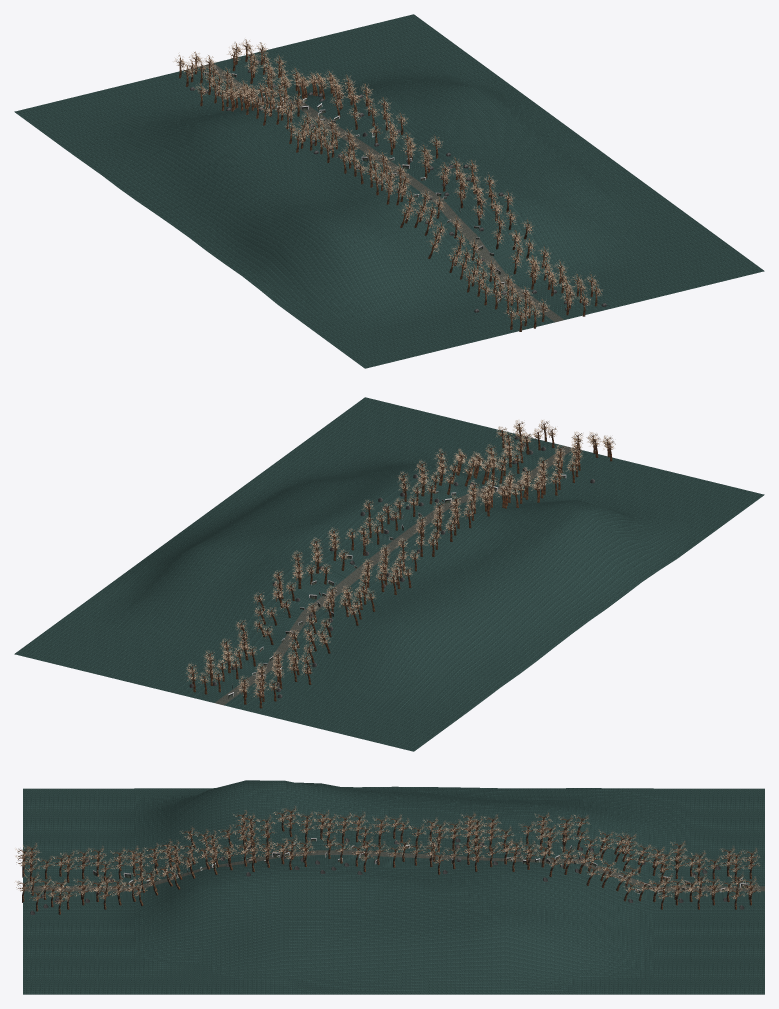
The model's file is The Hill of Silence 1.fbx.
3 renders of one model, top to bottom at view 1: azimuth 30°, elevation 25°; view 2: azimuth 150°, elevation 25°; view 3: azimuth 270°, elevation 25°, orthographic. The views are drawn at different scales.
Parts seen in each view (by area): view 1: Plane; view 2: Plane; view 3: Plane.
Boxes of the visible parts, x1,y1,x2,y2 form: Plane: (14,14,764,368); Plane: (14,397,764,751); Plane: (23,780,764,994).
Bounding box in the file's own units: 445 × 71.37 × 684.
Materials: 6 (6 with a texture image).
